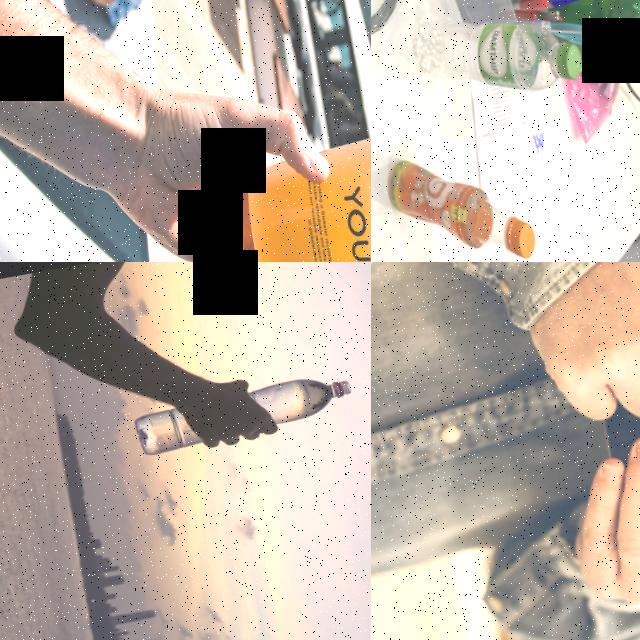bottle: (130, 367, 358, 457), (406, 0, 584, 112), (383, 137, 540, 262)
cup: (236, 119, 371, 262), (591, 345, 640, 549)
